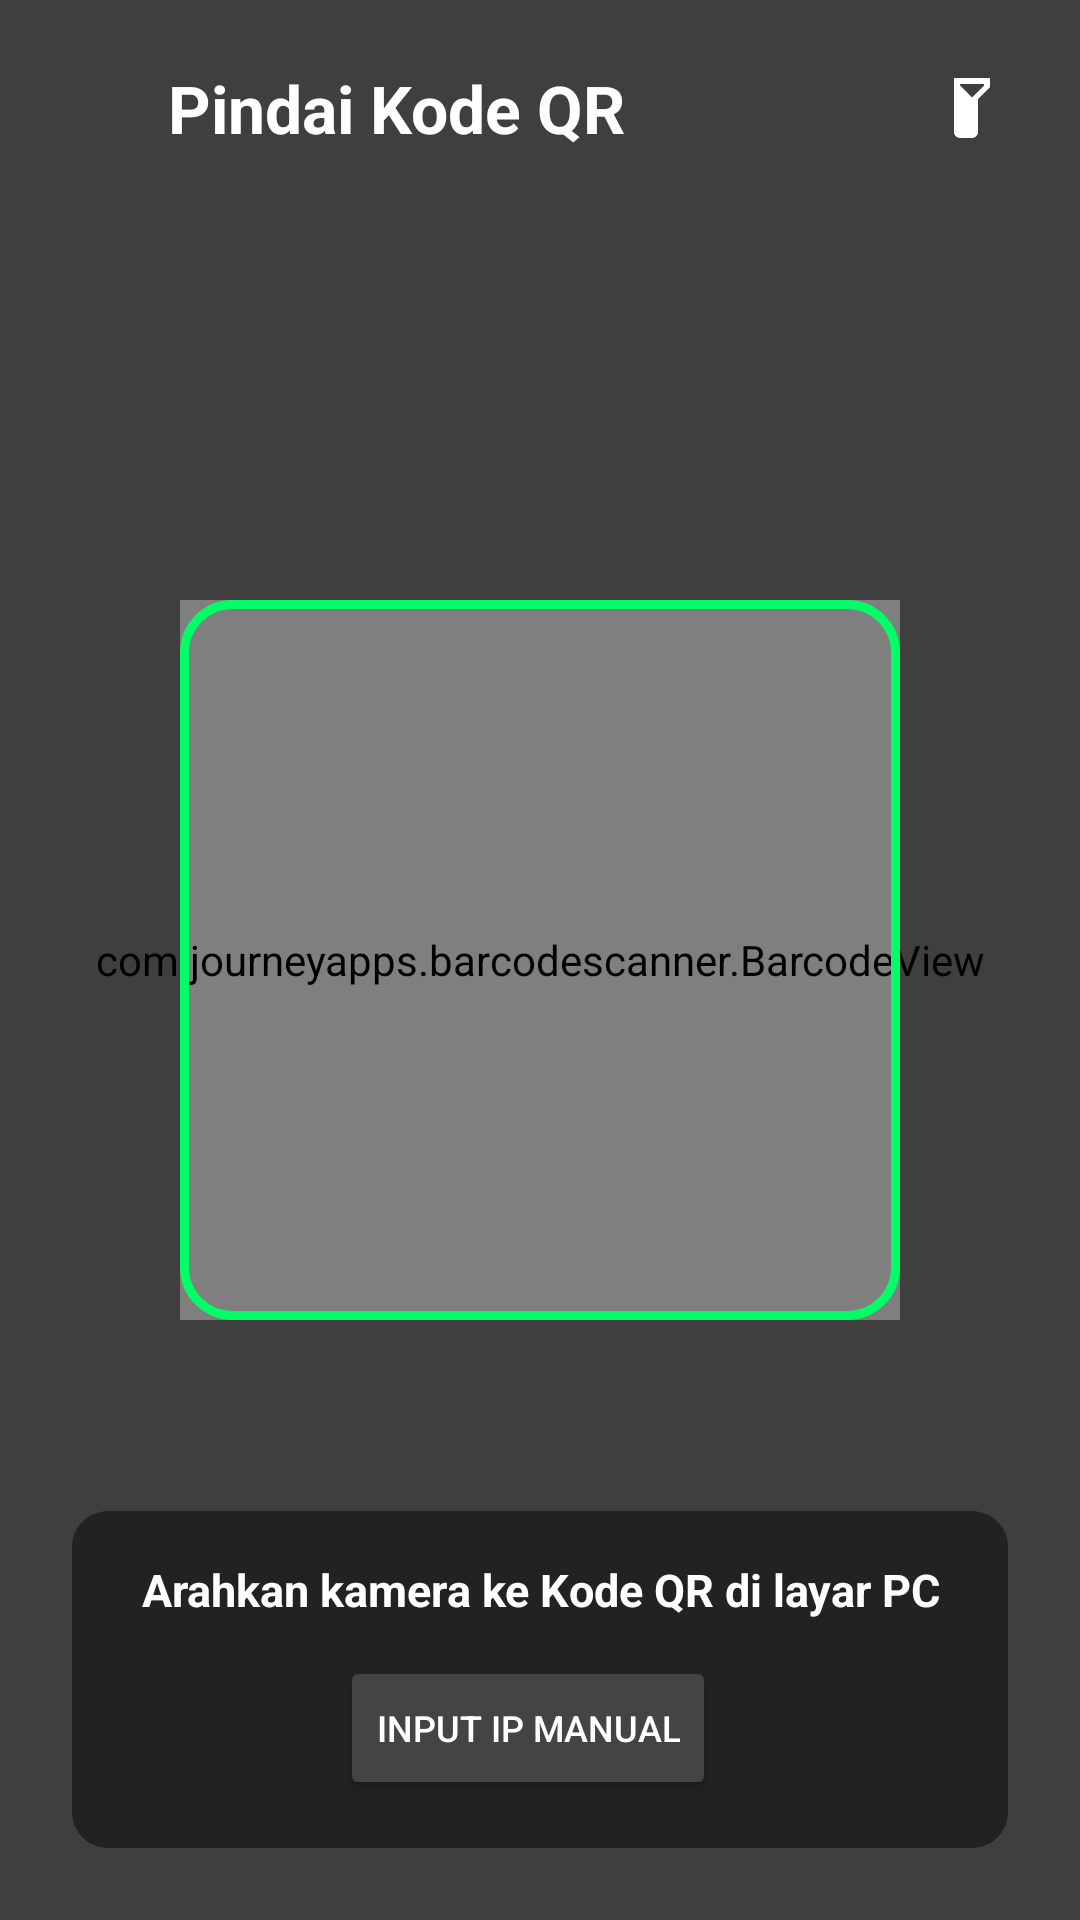

Screen size 1080 × 1920. Icon name, then its box in pixels as (x1, y1, x2, y2):
flashlight: (954, 78, 990, 138)
